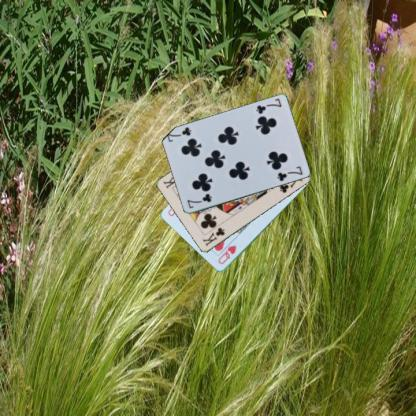7c: (184, 191, 214, 210), (253, 96, 283, 115)
Kc: (200, 225, 226, 248)
Qh: (216, 243, 238, 265)
